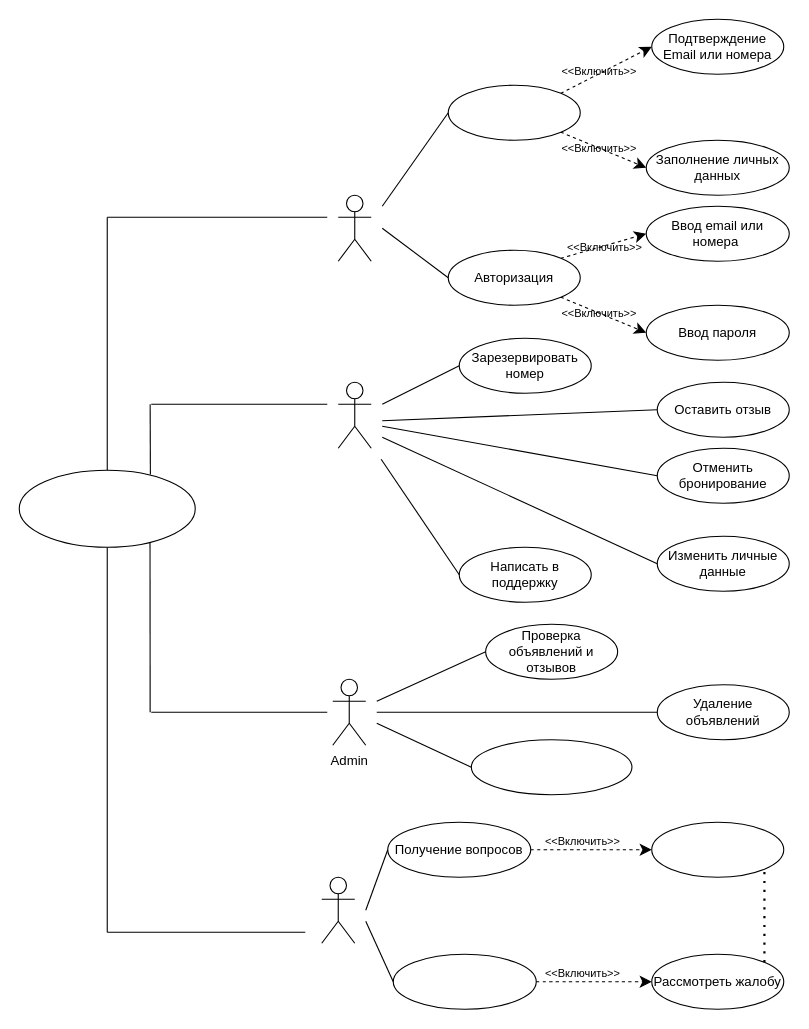
The diagram is 809 pixels wide and 1029 high, and some of its shapes have lost their labels. Each missing label, with the centre of its shape:
"Guest" belongs at point (354, 227).
"Support" belongs at point (338, 909).
"User" belongs at point (354, 414).
"Заблокировать или удалить пользователя" belongs at point (551, 767).
"Отправить ответ" belongs at point (717, 849).
"Получение жалоб" belongs at point (464, 981).
"Просмотр объявлений и отзывов" belongs at point (106, 508).
"Регистрация" belongs at point (513, 112).
